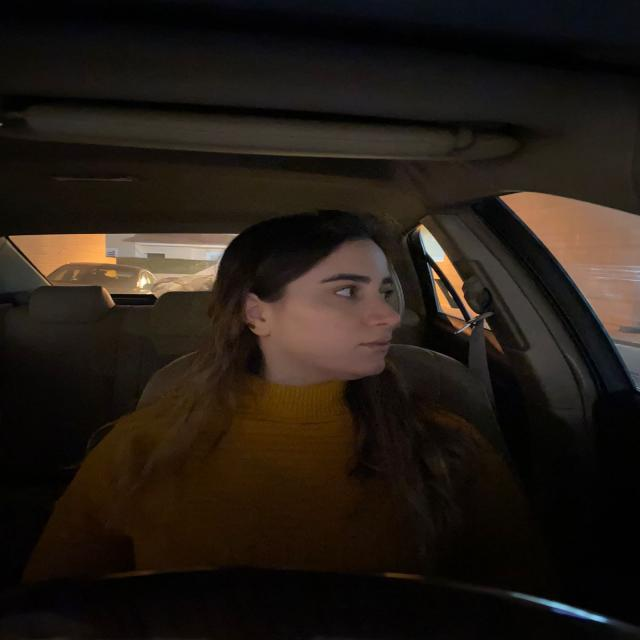LeftRight: (238, 223, 411, 393)
